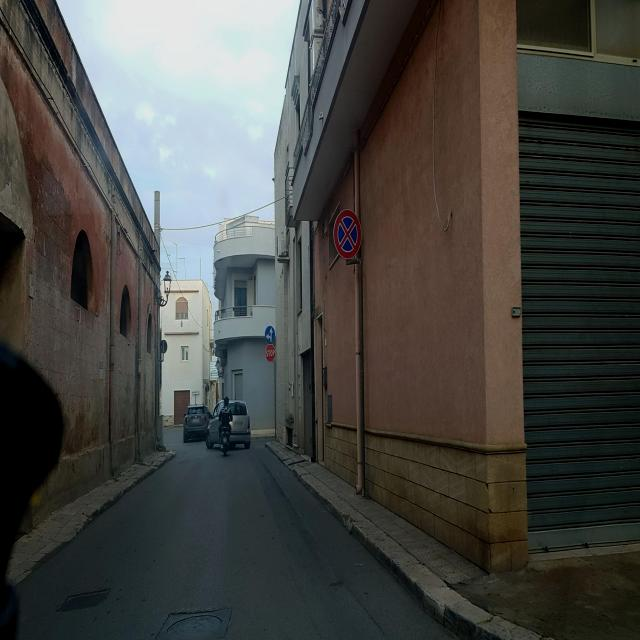car: (210, 399, 251, 448), (182, 402, 212, 441)
